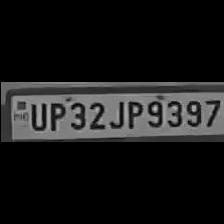2: (84, 98, 106, 130)
3: (66, 98, 86, 130), (164, 97, 182, 127)
7: (202, 96, 222, 128)
9: (182, 97, 202, 127), (144, 97, 162, 128)
J: (106, 97, 124, 129)
P: (46, 99, 64, 131), (124, 97, 142, 129)
U: (25, 100, 45, 132)
